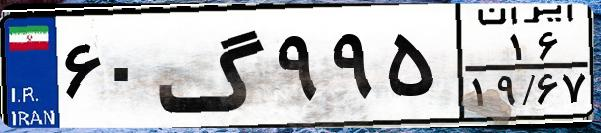0: (110, 28, 156, 98)
1: (508, 27, 537, 80), (470, 70, 495, 125)
5: (385, 28, 445, 110)
6: (57, 26, 110, 100), (537, 27, 568, 80), (535, 70, 560, 125)
7: (560, 70, 590, 125)
9: (270, 28, 330, 110), (330, 28, 385, 110), (495, 70, 520, 125)
گ: (156, 12, 270, 120)
